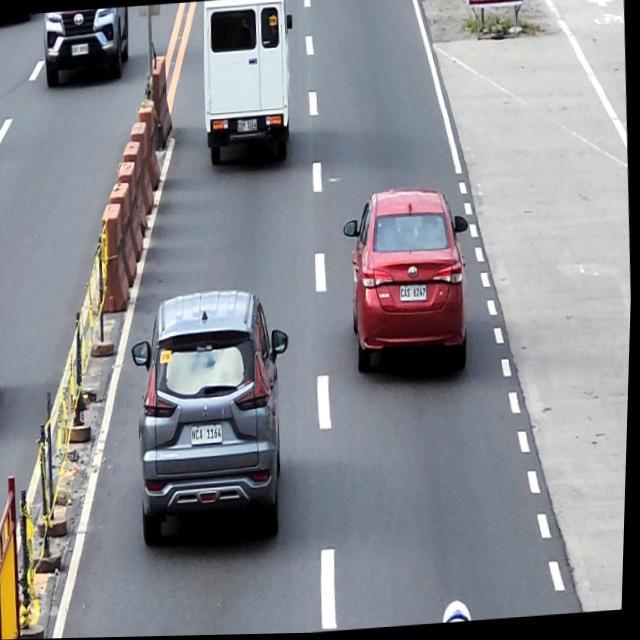Car: (126, 286, 302, 548), (339, 185, 478, 379), (197, 0, 300, 167), (40, 8, 131, 88)
License-Plate: (192, 422, 226, 449), (401, 284, 430, 305), (237, 119, 259, 134), (70, 43, 89, 56)
